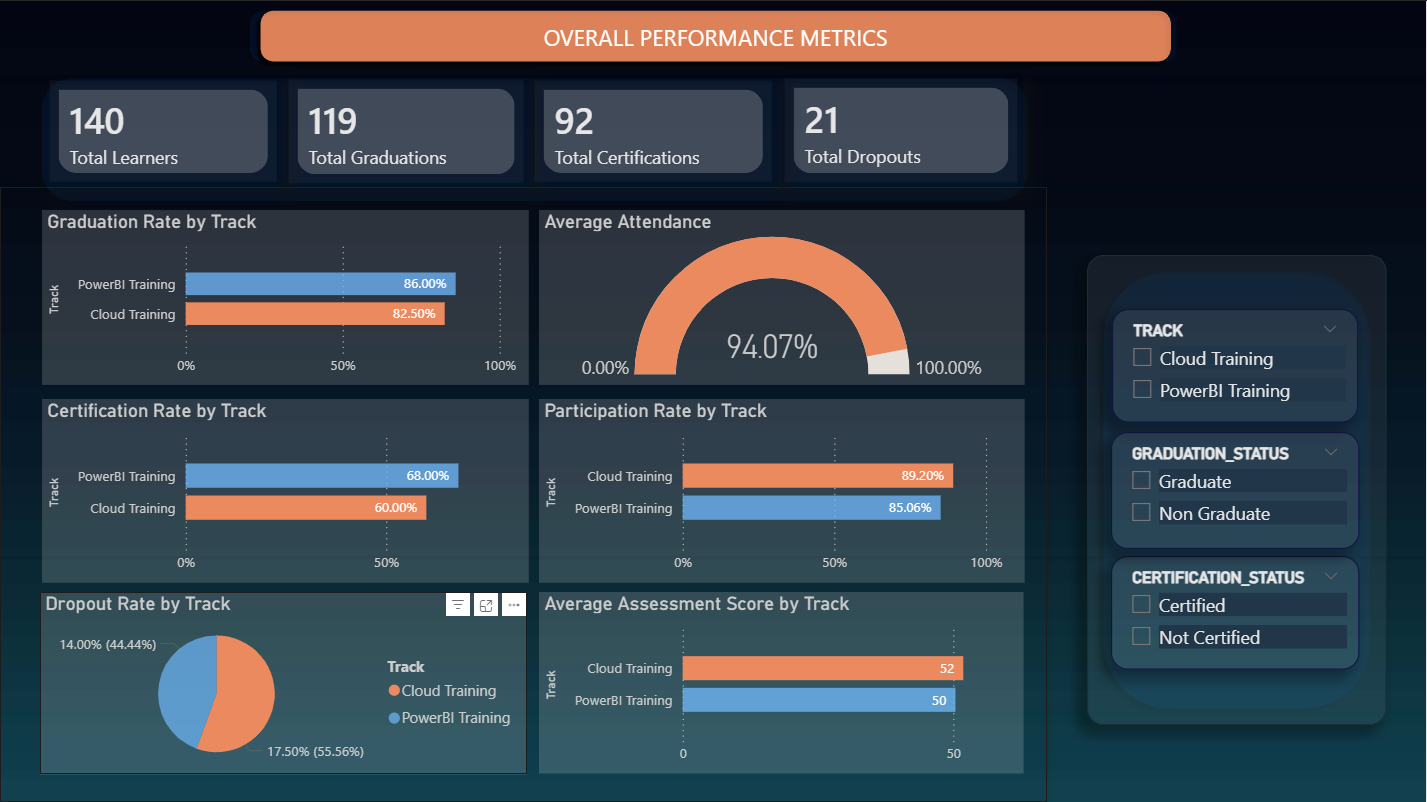

What the dashboard file says about the page in this screenshot:
{"tool":"powerbi","page":{"name":"Overall Performance Metrics","canvas":[1280,720],"ordinal":0},"visuals":[{"type":"shape","box":[28.7,60.1,903.1,128.4],"z":0,"group":"g3"},{"type":"group","id":"g1","title":"Group 1","box":[0,167,940,553],"z":0},{"type":"shape","box":[0,167,940,553],"z":0,"group":"g1"},{"type":"shape","box":[975.9,228,269.3,421.9],"z":0,"group":"g2"},{"type":"cardVisual","fields":{"Data":["Measures (2).Total Learners"]},"box":[39.1,66.5,214.6,101],"z":1000,"group":"g3"},{"type":"barChart","fields":{"Category":["Dim_Learner.Cohort"],"Y":["Measures (2).Graduation Rate"]},"box":[37.3,187.9,436.7,157.4],"z":1000,"group":"g1"},{"type":"group","id":"g2","title":"Group 2","box":[975.9,228,269.3,421.9],"z":1000},{"type":"shape","box":[215.5,0.2,849.8,63.5],"z":2000,"group":"g4"},{"type":"group","id":"g3","title":"Group 3","box":[28.7,60.1,903.1,128.4],"z":2000},{"type":"cardVisual","fields":{"Data":["Measures (2).Total Dropouts"]},"box":[699,64.5,219.2,103],"z":2000,"group":"g3"},{"type":"clusteredBarChart","fields":{"Category":["Dim_Learner.Cohort"],"Y":["Measures (2).Certification Rate"]},"box":[37.3,357.1,436.7,164.5],"z":2000,"group":"g1"},{"type":"group","id":"g4","title":"Group 4","box":[215.5,0,849.3,63.7],"z":3000},{"type":"cardVisual","fields":{"Data":["Measures (2).Total Graduations"]},"box":[253.7,65.5,221.5,103],"z":3000,"group":"g3"},{"type":"slicer","fields":{"Values":["Dim_Learner.Cohort"]},"box":[998.1,276.1,220.8,102.3],"z":3000,"group":"g2"},{"type":"pieChart","fields":{"Category":["Dim_Learner.Cohort"],"Y":["Measures (2).Dropout Rate"]},"box":[36.1,530.4,436.7,163.7],"z":3000,"group":"g1"},{"type":"cardVisual","fields":{"Data":["Measures (2).Total Certifications"]},"box":[475.2,66.5,223.8,101],"z":4000,"group":"g3"},{"type":"gauge","fields":{"Y":["Measures (2).Average Attendance"]},"box":[484,187.9,435.8,157.4],"z":4000,"group":"g1"},{"type":"slicer","fields":{"Values":["Dim_Learner.Certification_Status"]},"box":[997.4,498.2,222.6,102.3],"z":4000,"group":"g2"},{"type":"actionButton","box":[1040.9,636.9,216.7,45.6],"z":4000},{"type":"shape","box":[225.6,0,834.6,62.8],"z":5000,"group":"g4"},{"type":"clusteredBarChart","fields":{"Category":["Dim_Learner.Cohort"],"Y":["Measures (2).Participation Rate"]},"box":[484,357.1,435.8,164.5],"z":5000,"group":"g1"},{"type":"slicer","fields":{"Values":["Dim_Learner.Graduation_Status"]},"box":[997.2,386.5,222.6,105],"z":5000,"group":"g2"},{"type":"actionButton","box":[824.3,636.9,228.1,45.6],"z":5000},{"type":"clusteredBarChart","fields":{"Category":["Dim_Learner.Cohort"],"Y":["Measures (2).Average Assessment Score"]},"box":[483.9,530.7,435.4,163.4],"z":6000,"group":"g1"}]}

Visuals, with their boxes in screenshot pixels (x1, y1, x2, y2), scaled from the page's 1280x720 canvas onto the 1427x802 screenshot:
shape: (32, 67, 1039, 210)
"Group 1" group: (0, 186, 1048, 801)
shape: (0, 186, 1048, 801)
shape: (1088, 254, 1388, 724)
cardVisual - Measures (2).Total Learners: (44, 74, 283, 187)
barChart - Dim_Learner.Cohort x Measures (2).Graduation Rate: (42, 209, 528, 385)
"Group 2" group: (1088, 254, 1388, 724)
shape: (240, 0, 1188, 71)
"Group 3" group: (32, 67, 1039, 210)
cardVisual - Measures (2).Total Dropouts: (779, 72, 1024, 187)
clusteredBarChart - Dim_Learner.Cohort x Measures (2).Certification Rate: (42, 398, 528, 581)
"Group 4" group: (240, 0, 1187, 71)
cardVisual - Measures (2).Total Graduations: (283, 73, 530, 188)
slicer - Dim_Learner.Cohort: (1113, 308, 1359, 421)
pieChart - Dim_Learner.Cohort x Measures (2).Dropout Rate: (40, 591, 527, 773)
cardVisual - Measures (2).Total Certifications: (530, 74, 779, 187)
gauge - Measures (2).Average Attendance: (540, 209, 1025, 385)
slicer - Dim_Learner.Certification_Status: (1112, 555, 1360, 669)
actionButton: (1160, 709, 1402, 760)
shape: (252, 0, 1182, 70)
clusteredBarChart - Dim_Learner.Cohort x Measures (2).Participation Rate: (540, 398, 1025, 581)
slicer - Dim_Learner.Graduation_Status: (1112, 431, 1360, 547)
actionButton: (919, 709, 1173, 760)
clusteredBarChart - Dim_Learner.Cohort x Measures (2).Average Assessment Score: (539, 591, 1025, 773)
